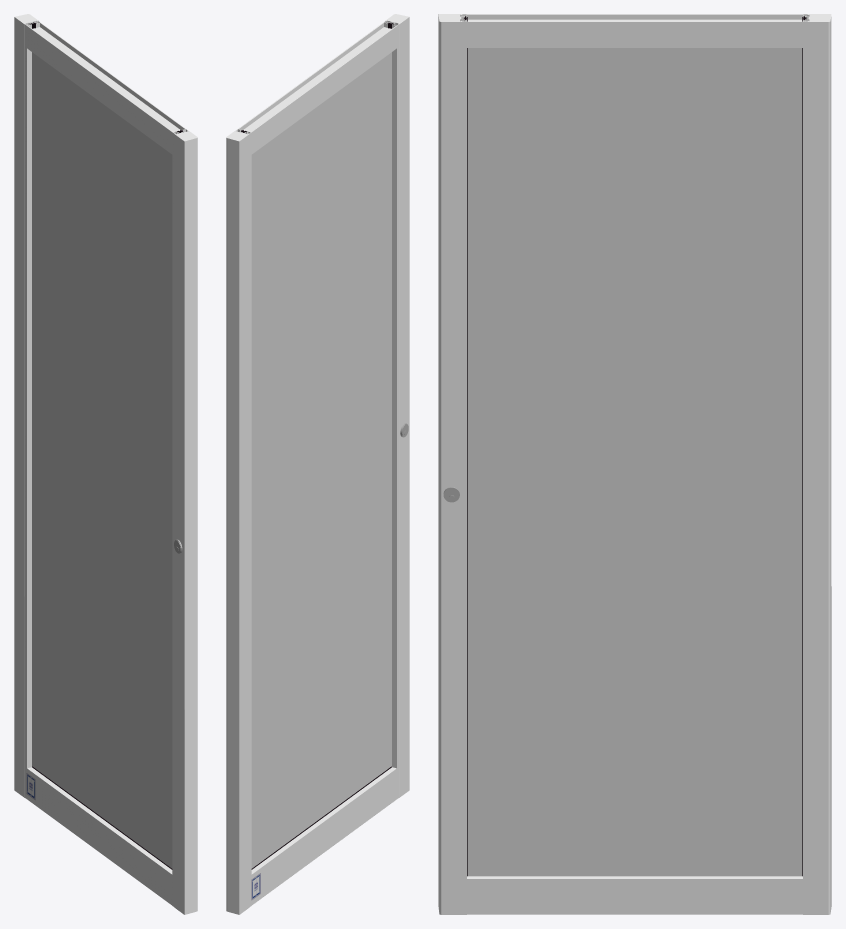
The model's file is D200_Slab_WT.glb.
3 renders of one model, left to right at view 1: azimuth 30°, elevation 25°; view 2: azimuth 150°, elevation 25°; view 3: azimuth 270°, elevation 25°, orthographic. The views are drawn at different scales.
Parts seen in each view (by area): view 1: Cube.001, PROFILE_curve_.020, D200, PROFILE_curve_.012, PROFILE_curve_.015; view 2: Cube.001, D200, PROFILE_curve_.020, PROFILE_curve_.012, PROFILE_curve_.015; view 3: Cube.001, D200, PROFILE_curve_.020, PROFILE_curve_.015, PROFILE_curve_.012, rubber_curve_.015, rubber_curve_.013.
Part boxes in pixels (bbox=[...]): Cube.001: bbox=[32, 52, 172, 868]; PROFILE_curve_.020: bbox=[172, 129, 197, 914]; D200: bbox=[14, 14, 40, 798]; PROFILE_curve_.012: bbox=[27, 22, 185, 154]; PROFILE_curve_.015: bbox=[27, 767, 172, 905]; Cube.001: bbox=[251, 52, 391, 868]; D200: bbox=[226, 129, 251, 914]; PROFILE_curve_.020: bbox=[383, 14, 409, 798]; PROFILE_curve_.012: bbox=[238, 22, 396, 154]; PROFILE_curve_.015: bbox=[251, 767, 396, 905]; Cube.001: bbox=[467, 48, 802, 876]; D200: bbox=[803, 14, 831, 914]; PROFILE_curve_.020: bbox=[438, 14, 466, 914]; PROFILE_curve_.015: bbox=[467, 876, 802, 914]; PROFILE_curve_.012: bbox=[467, 14, 802, 47]; rubber_curve_.015: bbox=[802, 18, 806, 876]; rubber_curve_.013: bbox=[464, 18, 467, 876].
Bounding box in the file's own units: 0.054 × 2.29 × 0.9144.
5 materials, 1 textured.
